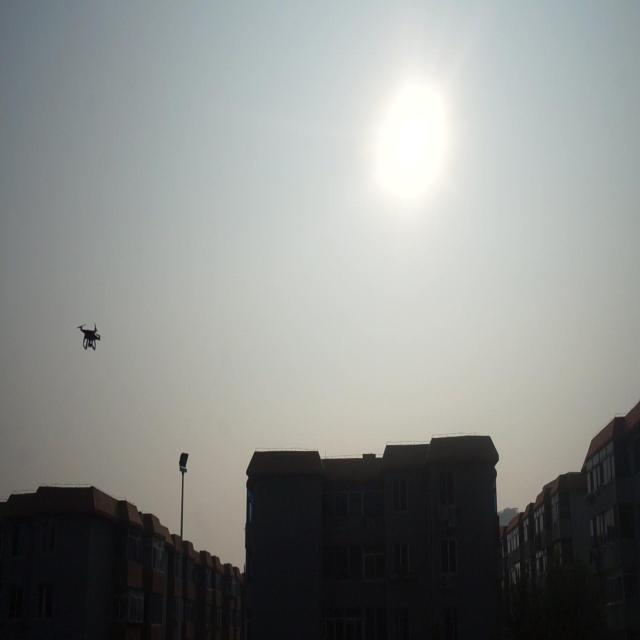drone: (76, 320, 102, 356)
